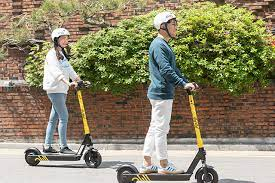kick_neck: (187, 95, 208, 160), (77, 90, 91, 145)
kick_wheel: (116, 164, 139, 183), (196, 167, 219, 183), (84, 149, 101, 167), (25, 147, 39, 165)
